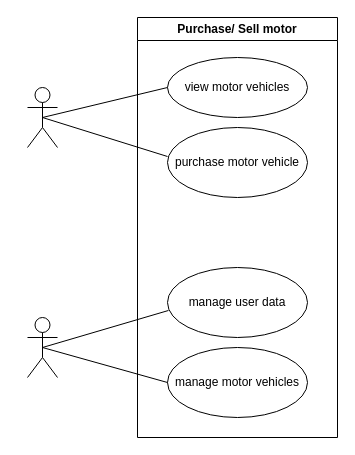
Image size: 355x455. Some labels were removed from this diagram. The centre of each missing label's shape, as x and y in pixels:
"Admin" belongs at [42,347].
"End User" belongs at [42,117].
